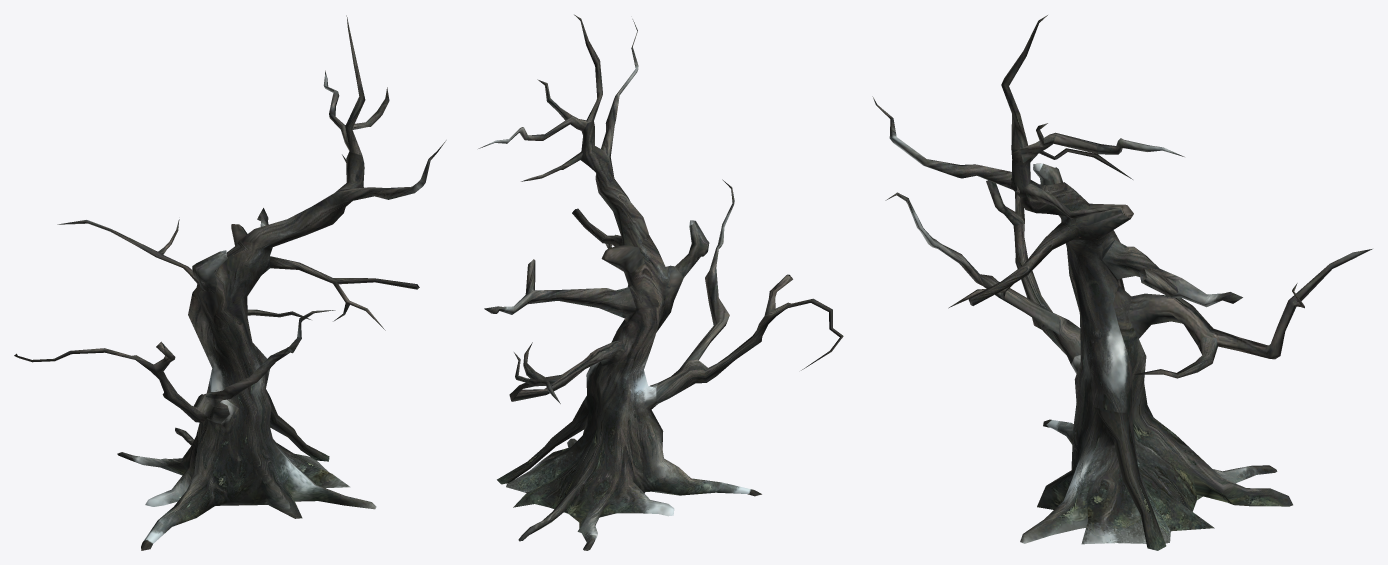
File: shu_04.FBX
3 renders of one model, left to right at view 1: azimuth 30°, elevation 25°; view 2: azimuth 150°, elevation 25°; view 3: azimuth 270°, elevation 25°, orthographic. The views are drawn at different scales.
Visible parts, largest first — view 1: 04; view 2: 04; view 3: 04.
Part boxes in pixels (bbox=[...]): 04: bbox=[14, 15, 446, 550]; 04: bbox=[478, 14, 843, 550]; 04: bbox=[872, 15, 1372, 550].
Bounding box in the file's own units: 13.61 × 18.02 × 15.73.
